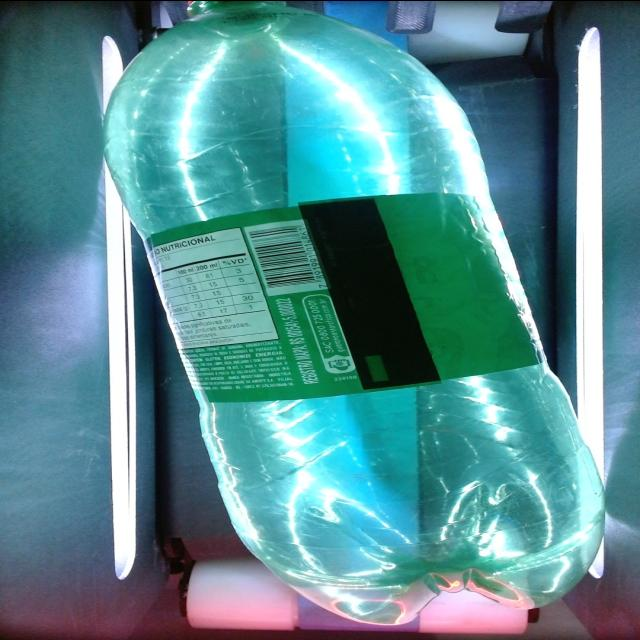bottle: (105, 0, 603, 624)
